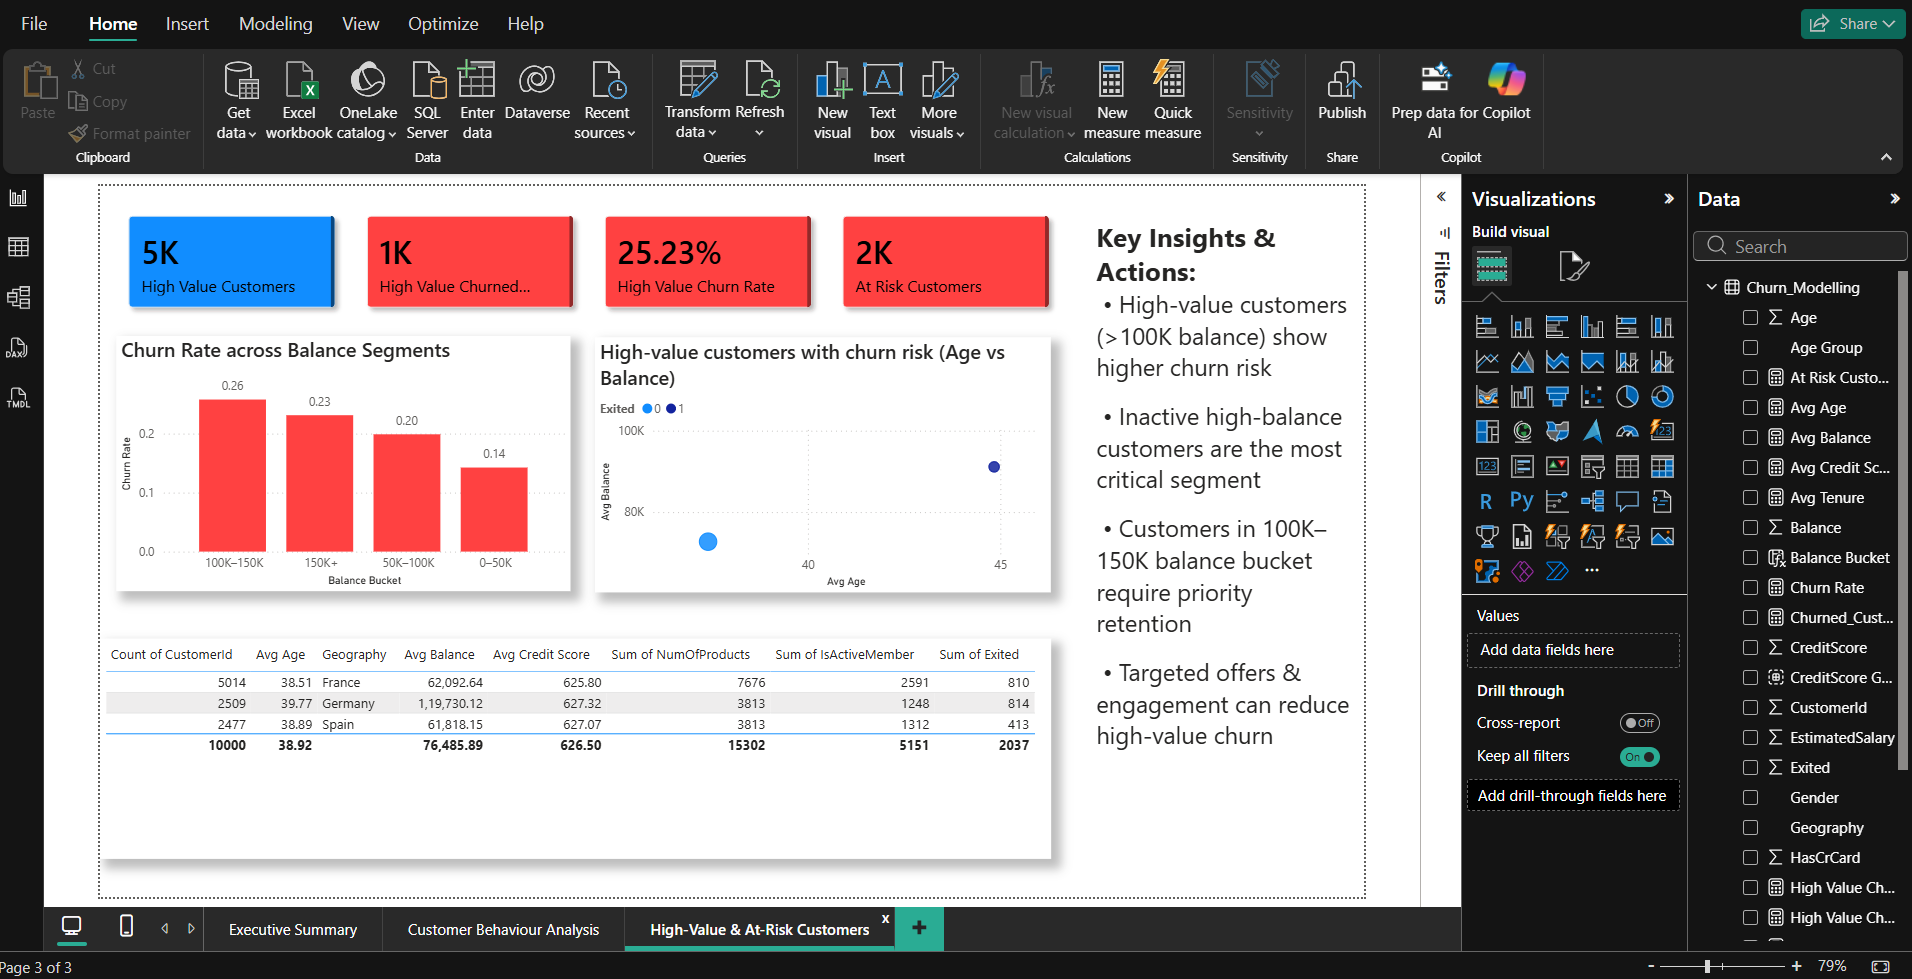

This screenshot's page, from the dashboard's own definition file:
{"tool":"powerbi","page":{"name":"High-Value & At-Risk Customers","canvas":[1280,720],"ordinal":2},"visuals":[{"type":"cardVisual","fields":{"Data":["Churn_Modelling.High Value Customers","Churn_Modelling.High Value Churned Customers","Churn_Modelling.High Value Churn Rate","Churn_Modelling.At Risk Customers"]},"box":[0,1.7,991.7,151.7],"z":1000},{"type":"clusteredColumnChart","title":"Churn Rate across Balance Segments","fields":{"Category":["Churn_Modelling.Balance Bucket"],"Y":["Churn_Modelling.Churn Rate"]},"box":[16.7,151.7,460,258.3],"z":2000},{"type":"tableEx","title":"High-value customer details for retention action","fields":{"Values":["CountNonNull(Churn_Modelling.CustomerId)","Churn_Modelling.Avg Age","Churn_Modelling.Geography","Churn_Modelling.Avg Balance","Churn_Modelling.Avg Credit Score","Sum(Churn_Modelling.NumOfProducts)","Sum(Churn_Modelling.IsActiveMember)","Sum(Churn_Modelling.Exited)"]},"box":[0,458.3,963.3,223.3],"z":3000},{"type":"scatterChart","title":"High-value customers with churn risk (Age vs Balance)","fields":{"Size":["Sum(Churn_Modelling.Balance)"],"Series":["Churn_Modelling.Exited"],"X":["Churn_Modelling.Avg Age"],"Y":["Churn_Modelling.Avg Balance"]},"box":[501.7,153.3,461.7,258.3],"z":4000},{"type":"textbox","box":[1003.3,28.3,266.7,638.3],"z":6000}]}

Visuals, with their boxes on the page's 1280x720 design canvas (x1, y1, x2, y2). These are canvas units, not pixel positions in the 1912x979 screenshot, which may show the page scaled, cropped or inside an application window:
cardVisual - Churn_Modelling.High Value Customers x Churn_Modelling.High Value Churned Customers: region(0, 2, 992, 153)
"Churn Rate across Balance Segments" clusteredColumnChart: region(17, 152, 477, 410)
"High-value customer details for retention action" tableEx: region(0, 458, 963, 682)
"High-value customers with churn risk (Age vs Balance)" scatterChart: region(502, 153, 963, 412)
textbox: region(1003, 28, 1270, 667)
